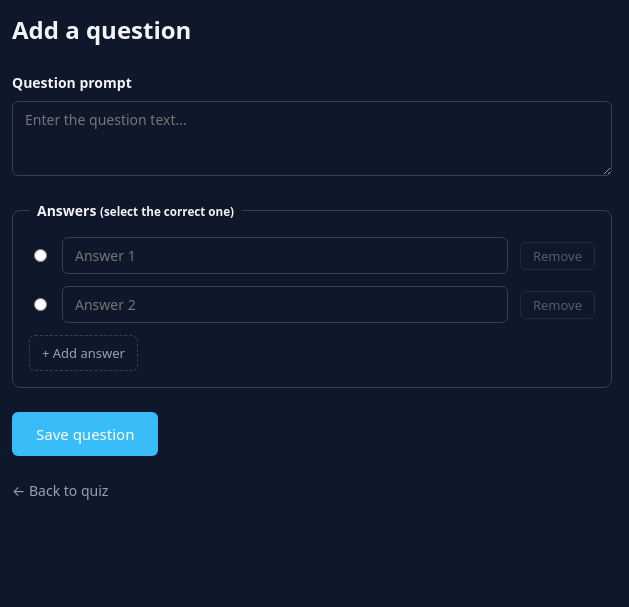
Test case: Add question page › shows error when submitting without a prompt
The width and height of the screenshot is (629, 607).
Set a correct answer to avoid that validation error
Step 1. Click the radio button named "Mark answer 1 as correct" → (40, 255), box [34,248,47,262]
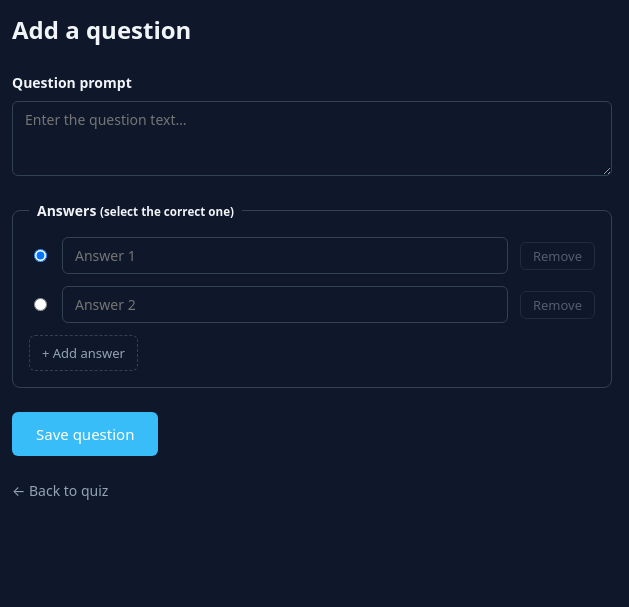
Step 2. Submit the form
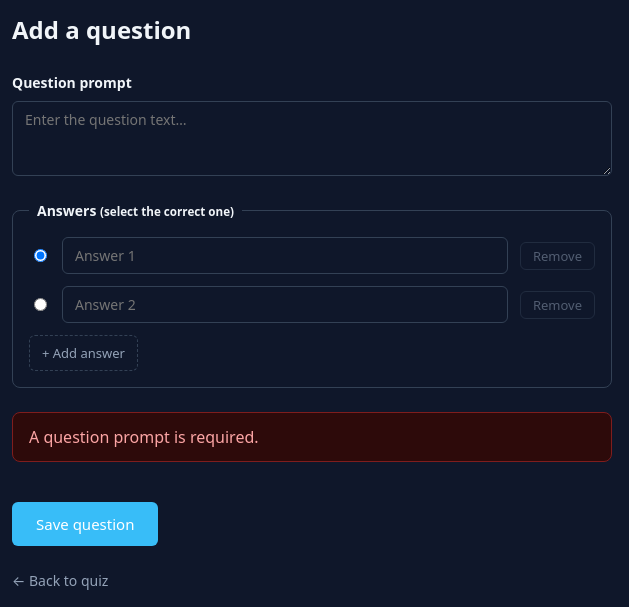
Result: the text "A question prompt is required" is shown at [29,426,258,448]
